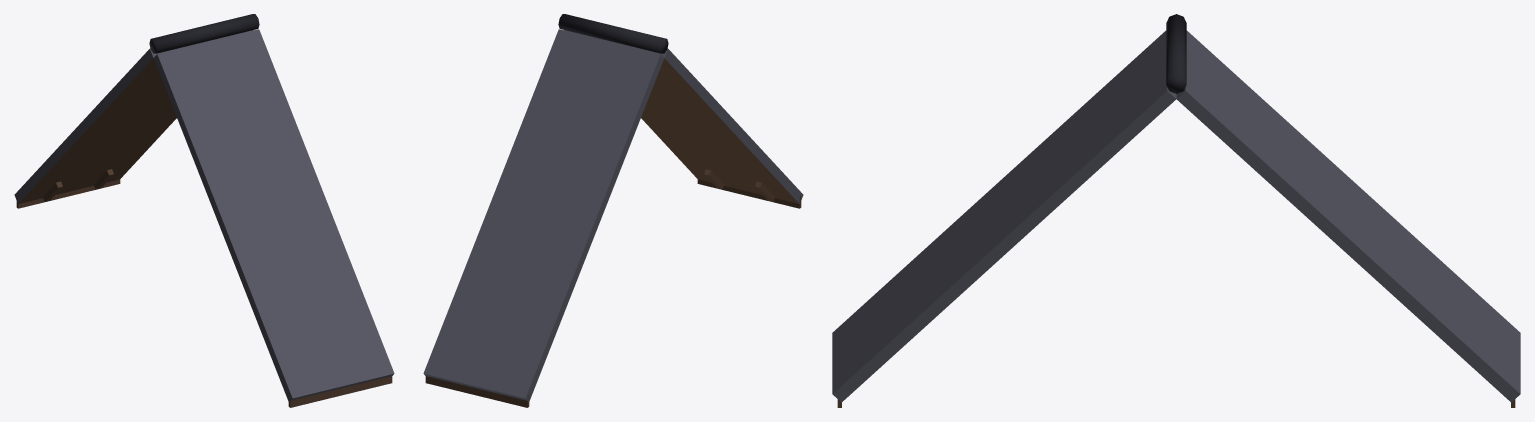
Rendered from kit_stone_slate_w4.glb.
3 renders of one model, left to right at view 1: azimuth 30°, elevation 25°; view 2: azimuth 150°, elevation 25°; view 3: azimuth 270°, elevation 25°, orthographic. The views are drawn at different scales.
Visible parts, largest first — view 1: kit_stone_slate_w4; view 2: kit_stone_slate_w4; view 3: kit_stone_slate_w4.
Part boxes in pixels (x1,y1,x2,y2): kit_stone_slate_w4: [14, 14, 394, 407]; kit_stone_slate_w4: [423, 14, 803, 407]; kit_stone_slate_w4: [832, 14, 1520, 407].
Bounding box in the file's own units: 1 × 2.52 × 4.73.
